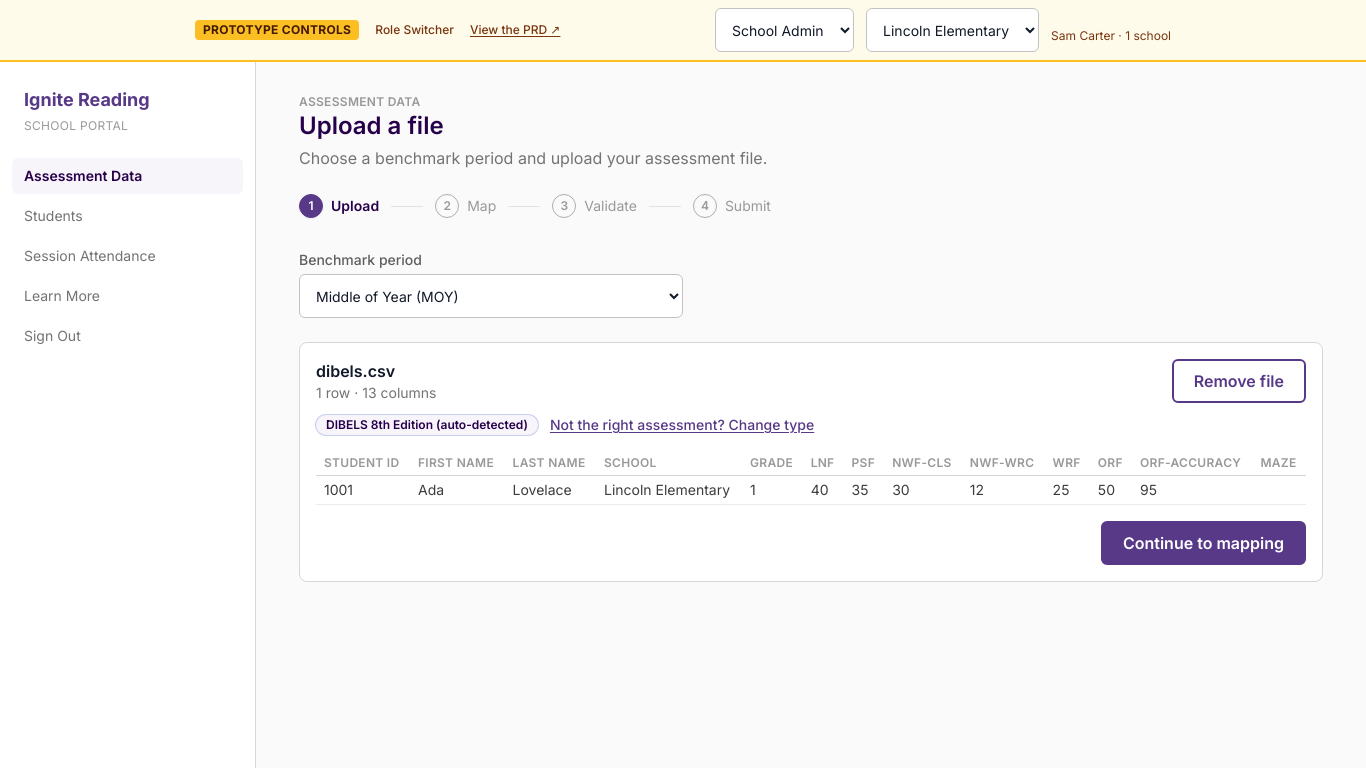
Test: US1: upload and preview › advances the stepper to Map after selecting a period and continuing
The image size is (1366, 768).
Earlier steps of the test are not shown.
Step 1. Click the button "Continue to mapping" → (1204, 543), box [1101,521,1306,565]
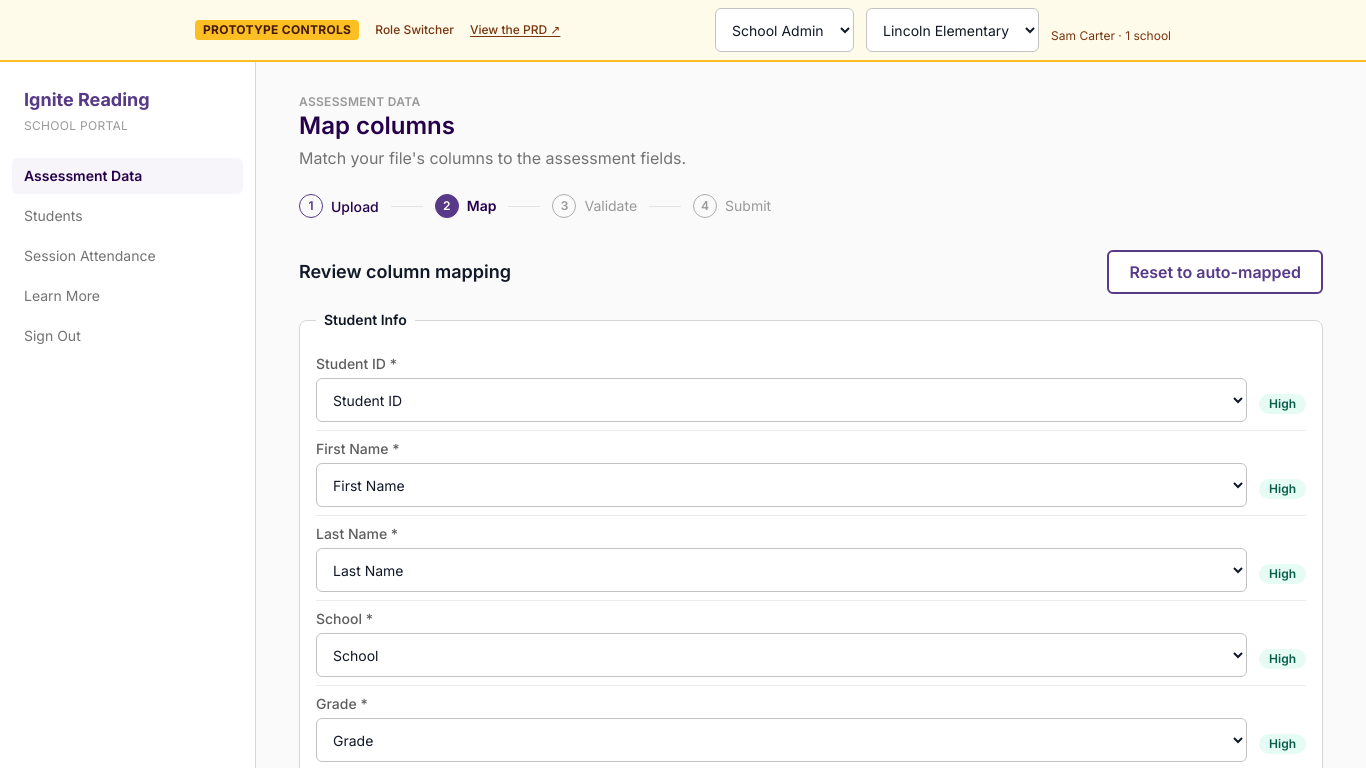
Expected: the list item "Map" is marked as current, [435,194,496,218]
Expected: the list item "Upload" does not have attribute aria-current, [299,194,379,218]
